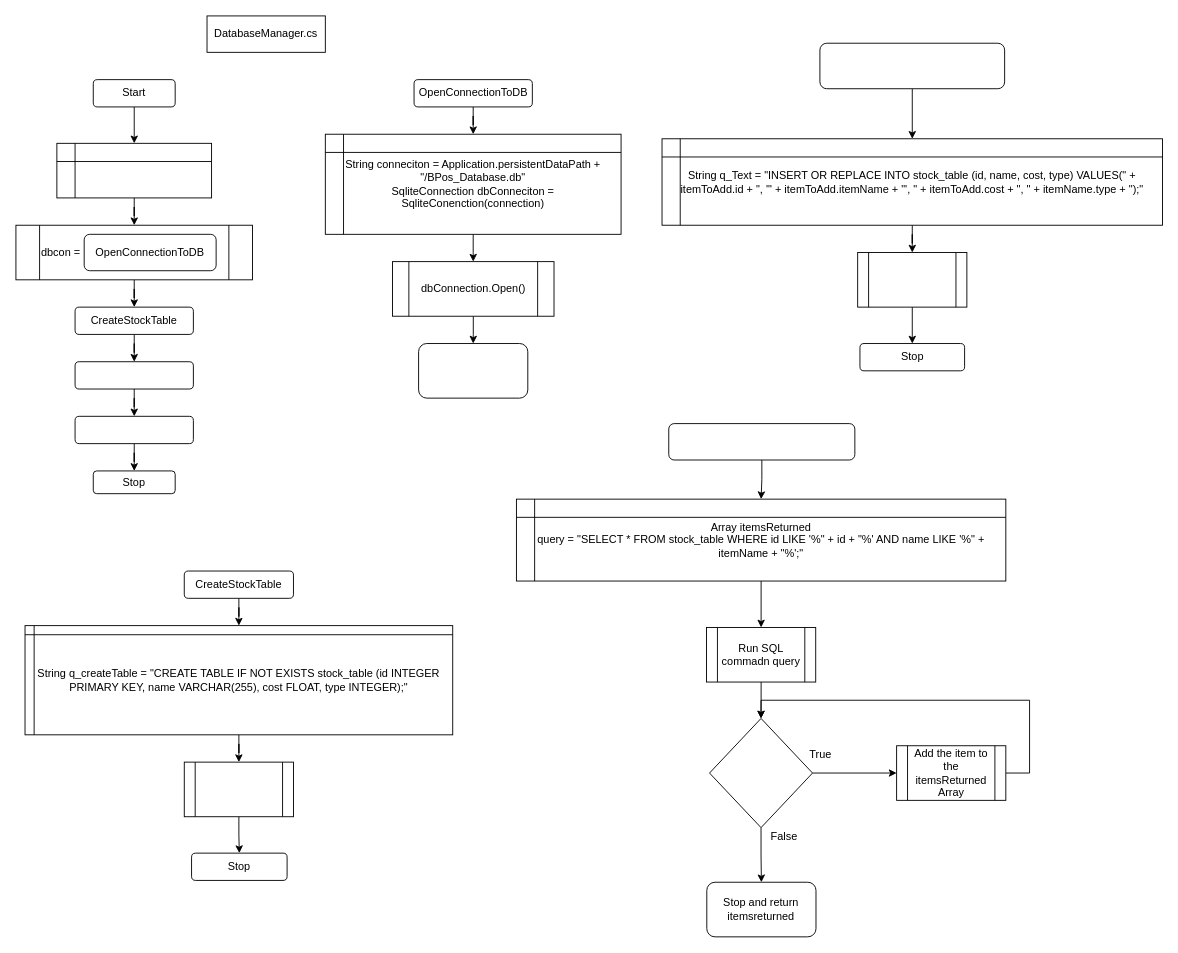
Some shapes in this 1178 by 953 pixel diagram are drawn without their labels. The shapes that lost their labels are listed below. From the top down, each one's box as (x1, y1, x2, y2) in pixels, then its label:
(819, 42, 1005, 89): InsertValuesIntoStockTable(item)
(56, 142, 212, 198): IDbConnection dbcon
(857, 252, 967, 307): Execute database command q_Text
(74, 361, 193, 389): CreateStaffTable
(418, 343, 528, 398): Stop and return stockDBConnection
(74, 415, 193, 444): CreateTransTable
(668, 423, 855, 460): ReadValuesInStockTable(id, itemName)
(183, 761, 293, 817): Run SQL line q_createTable
(709, 718, 813, 828): Has the database returned another item
